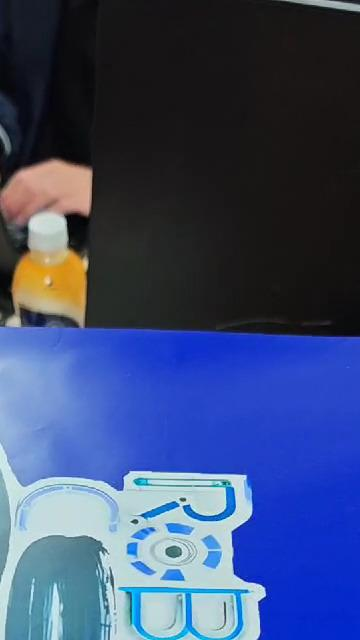B_R1: (0, 337, 296, 640)
